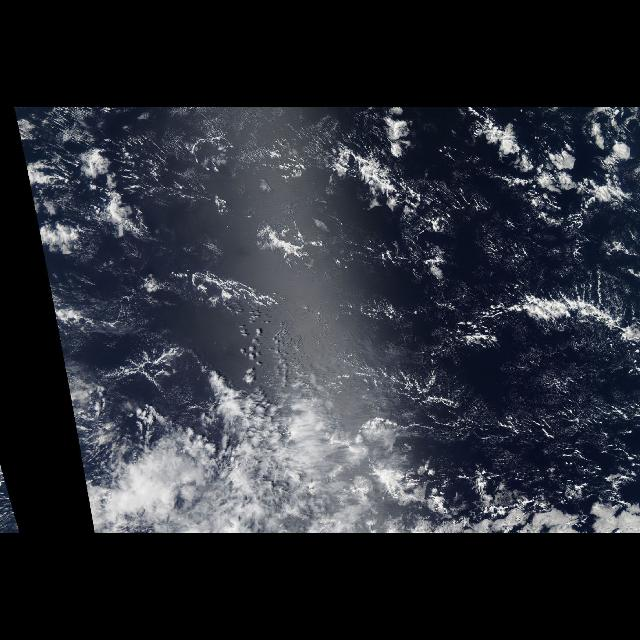Fish: (448, 266, 638, 356)
Sugar: (438, 338, 640, 477), (127, 112, 330, 208)
